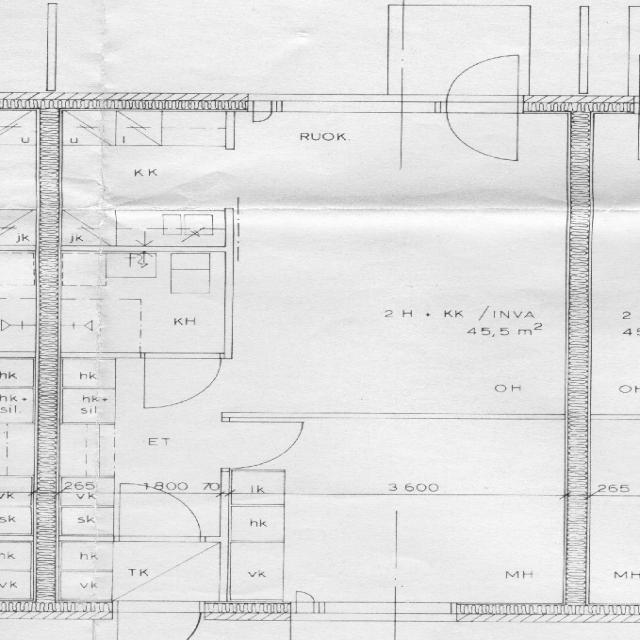door: (447, 94, 517, 158), (120, 485, 200, 541), (447, 49, 517, 112), (144, 352, 220, 407), (220, 422, 300, 468)
